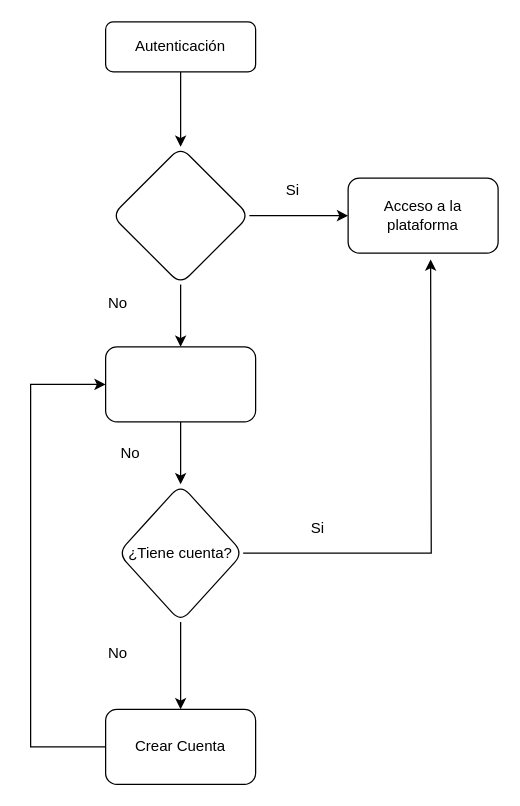
Some shapes in this 520 by 806 pixel diagram are drawn without their labels. The shapes that lost their labels are listed below. From the top down, each one's centre as x and y in pixels, then its label:
At [180,215]: "¿Autenticado?".
At [180,384]: "Iniciar Sesión".
